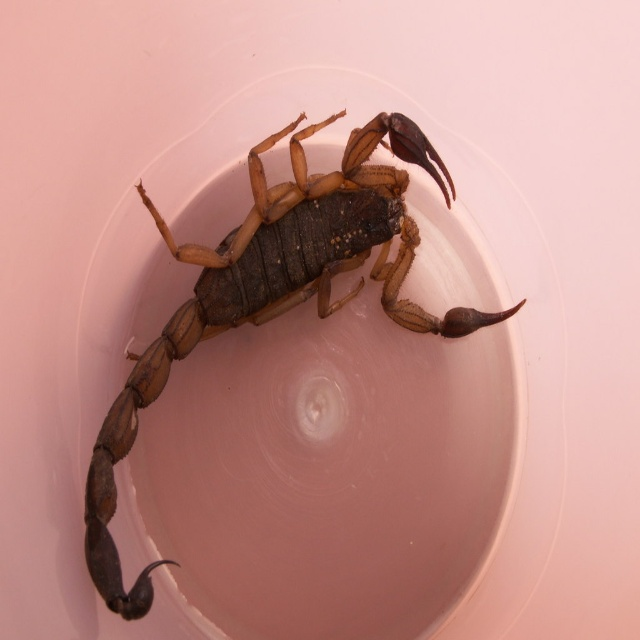Scorpion: (84, 108, 527, 621)
